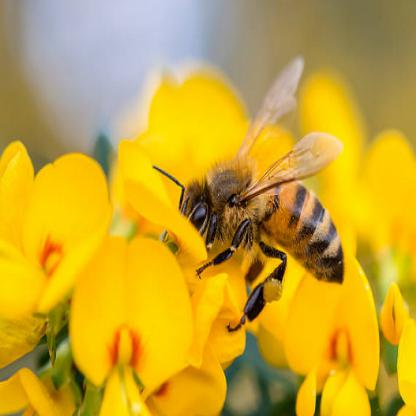other: (165, 123, 349, 325)
